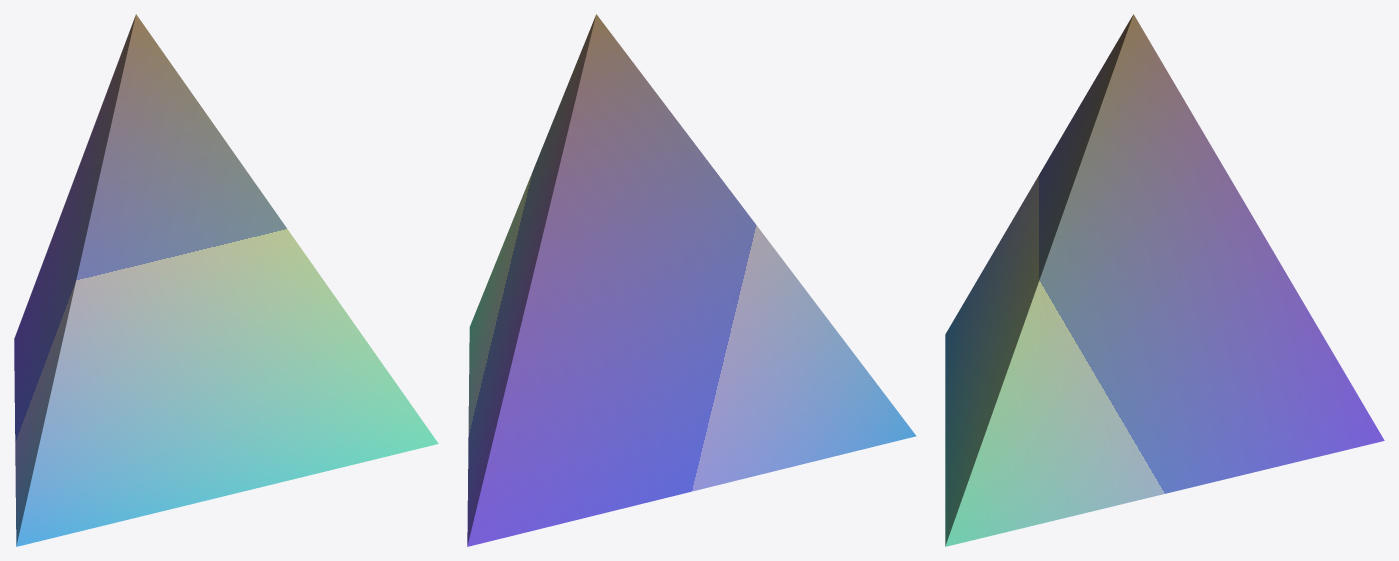
File: animated-tetra.glb
3 views of the same model, side by side, from view 1: azimuth 30°, elevation 25°; view 2: azimuth 150°, elevation 25°; view 3: azimuth 270°, elevation 25° (orthographic). The views are drawn at different scales.
Size of the model in its own units: 1.6 by 1.5 by 1.4.
Materials: 1 (1 with a texture image).
